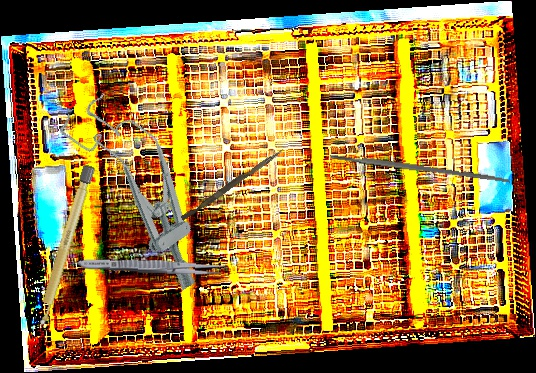Dressing Forceps: (75, 256, 230, 277)
Pusher: (180, 144, 285, 224)
Scalpel Handle: (33, 163, 96, 330), (329, 151, 511, 185)
Speculum: (53, 80, 235, 301)
